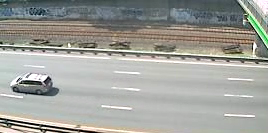car: (7, 70, 60, 98)
